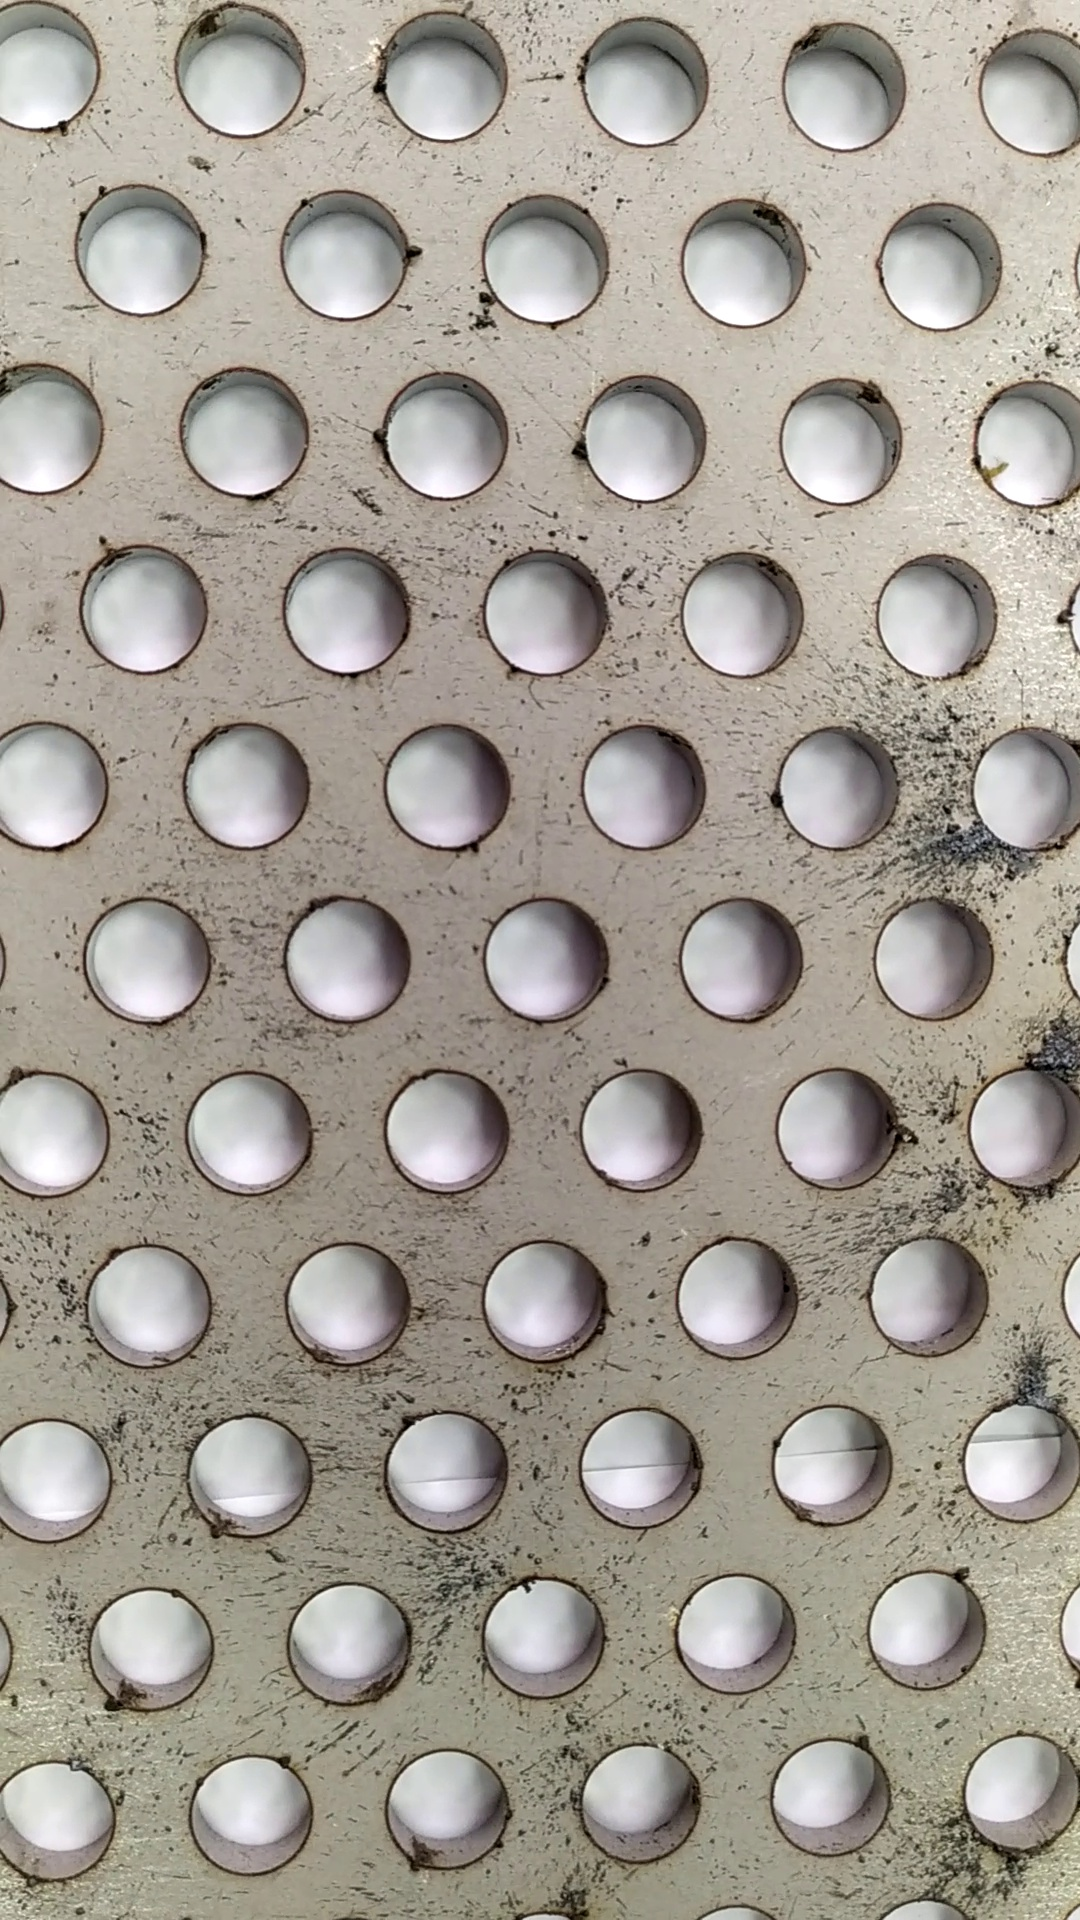Hole: (145, 1, 324, 144), (560, 360, 723, 517), (65, 170, 224, 326), (765, 11, 926, 162), (767, 371, 926, 522), (265, 884, 425, 1033), (365, 3, 520, 154), (563, 5, 720, 154), (564, 1393, 713, 1544), (69, 531, 216, 684), (471, 187, 624, 332), (272, 538, 425, 683), (873, 189, 1014, 345), (65, 1232, 222, 1373), (659, 1224, 810, 1370), (467, 538, 618, 683), (463, 1571, 618, 1712), (373, 713, 518, 862), (265, 181, 415, 324), (567, 1731, 720, 1873), (473, 885, 618, 1033), (171, 357, 320, 501), (862, 542, 1007, 687), (465, 1232, 615, 1373), (173, 711, 318, 855), (83, 1577, 228, 1720), (175, 1060, 322, 1201), (853, 1560, 1007, 1693), (675, 189, 818, 332), (373, 1062, 526, 1195), (177, 1404, 320, 1545), (371, 367, 516, 506), (671, 542, 810, 688), (564, 1062, 712, 1199), (173, 1749, 326, 1880), (73, 891, 222, 1026), (765, 1060, 909, 1199), (862, 884, 998, 1030), (276, 1577, 426, 1709), (277, 1232, 418, 1371), (764, 1731, 906, 1869), (673, 885, 804, 1033), (568, 719, 708, 856), (760, 1396, 899, 1534), (378, 1741, 520, 1876), (767, 717, 905, 856), (659, 1567, 798, 1701), (857, 1232, 998, 1362), (377, 1403, 518, 1534), (959, 1716, 1080, 1865), (955, 1393, 1080, 1528)
